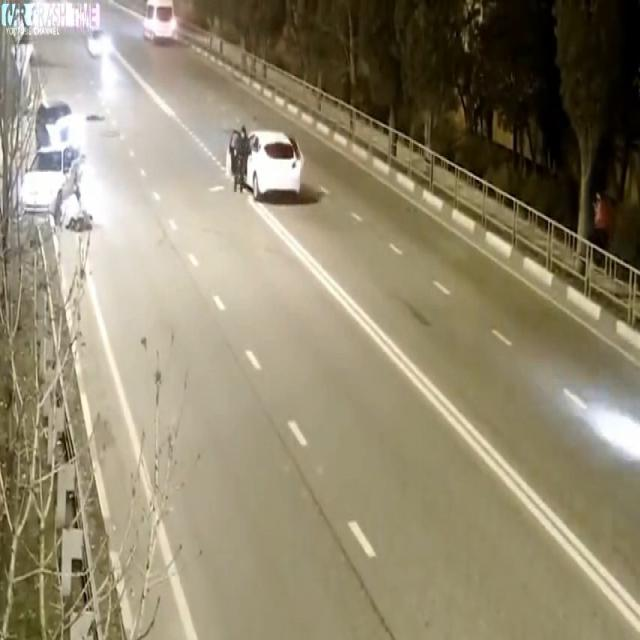Accident: (10, 67, 86, 191)
